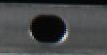holes: (28, 13, 68, 45)
